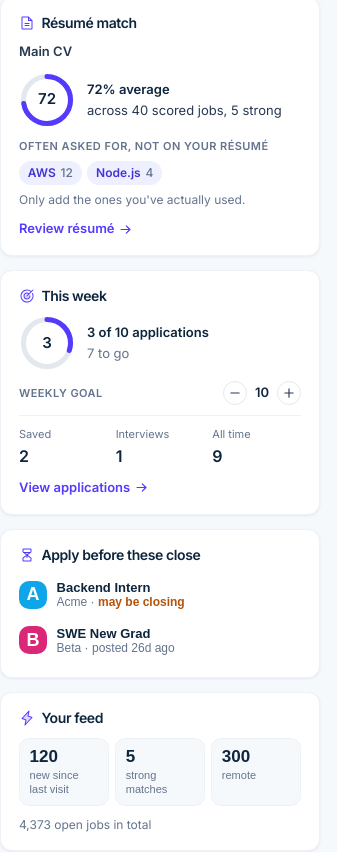
Test: JobsSidebar › tracks progress against a weekly goal the user can change and that persists
Expected: the text "3 of 10 applications" is shown, x1=87 y1=323 x2=209 y2=342
Click the button named "Lower weekly goal".
click(235, 393)  # box x1=223 y1=381 x2=247 y2=405
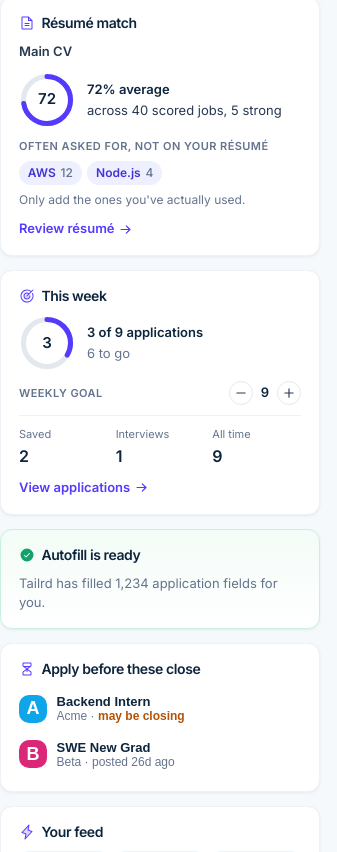
Result: the text "3 of 9 applications" is shown at x1=87 y1=323 x2=203 y2=342
